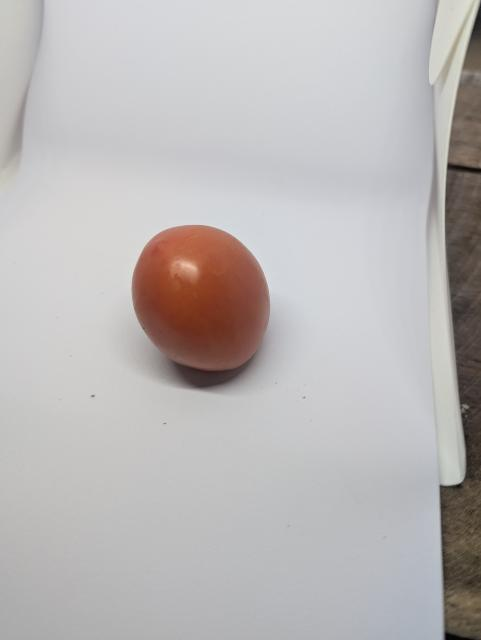red: (127, 219, 281, 383)
